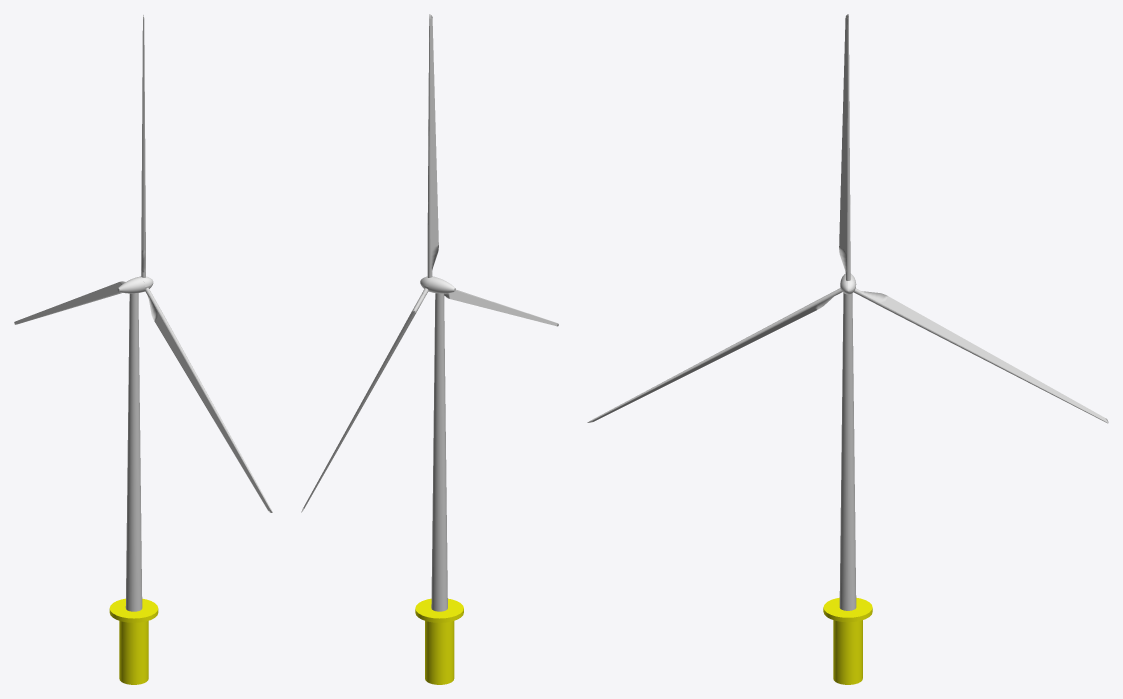
The model's file is WKA-NREL-EIA-15MW-HUB158m.gltf.
3 views of the same model, side by side, from view 1: azimuth 30°, elevation 25°; view 2: azimuth 150°, elevation 25°; view 3: azimuth 270°, elevation 25° (orthographic).
Parts seen in each view (by area): view 1: NREL-EIA-15MW TOWER, NREL-EIA-15MW ROTOR, NREL-EIA-15MW SOCKET; view 2: NREL-EIA-15MW TOWER, NREL-EIA-15MW ROTOR, NREL-EIA-15MW SOCKET; view 3: NREL-EIA-15MW ROTOR, NREL-EIA-15MW TOWER, NREL-EIA-15MW SOCKET.
Part boxes in pixels (bbox=[...]): NREL-EIA-15MW TOWER: bbox=[125, 293, 142, 611]; NREL-EIA-15MW ROTOR: bbox=[14, 15, 272, 512]; NREL-EIA-15MW SOCKET: bbox=[109, 598, 158, 684]; NREL-EIA-15MW TOWER: bbox=[431, 293, 447, 611]; NREL-EIA-15MW ROTOR: bbox=[301, 14, 558, 512]; NREL-EIA-15MW SOCKET: bbox=[415, 598, 463, 684]; NREL-EIA-15MW ROTOR: bbox=[587, 14, 1108, 423]; NREL-EIA-15MW TOWER: bbox=[839, 293, 856, 610]; NREL-EIA-15MW SOCKET: bbox=[823, 597, 872, 684].
Size of the model in its own units: 20 by 300 by 212.
Materials: 3 (1 with a texture image).
